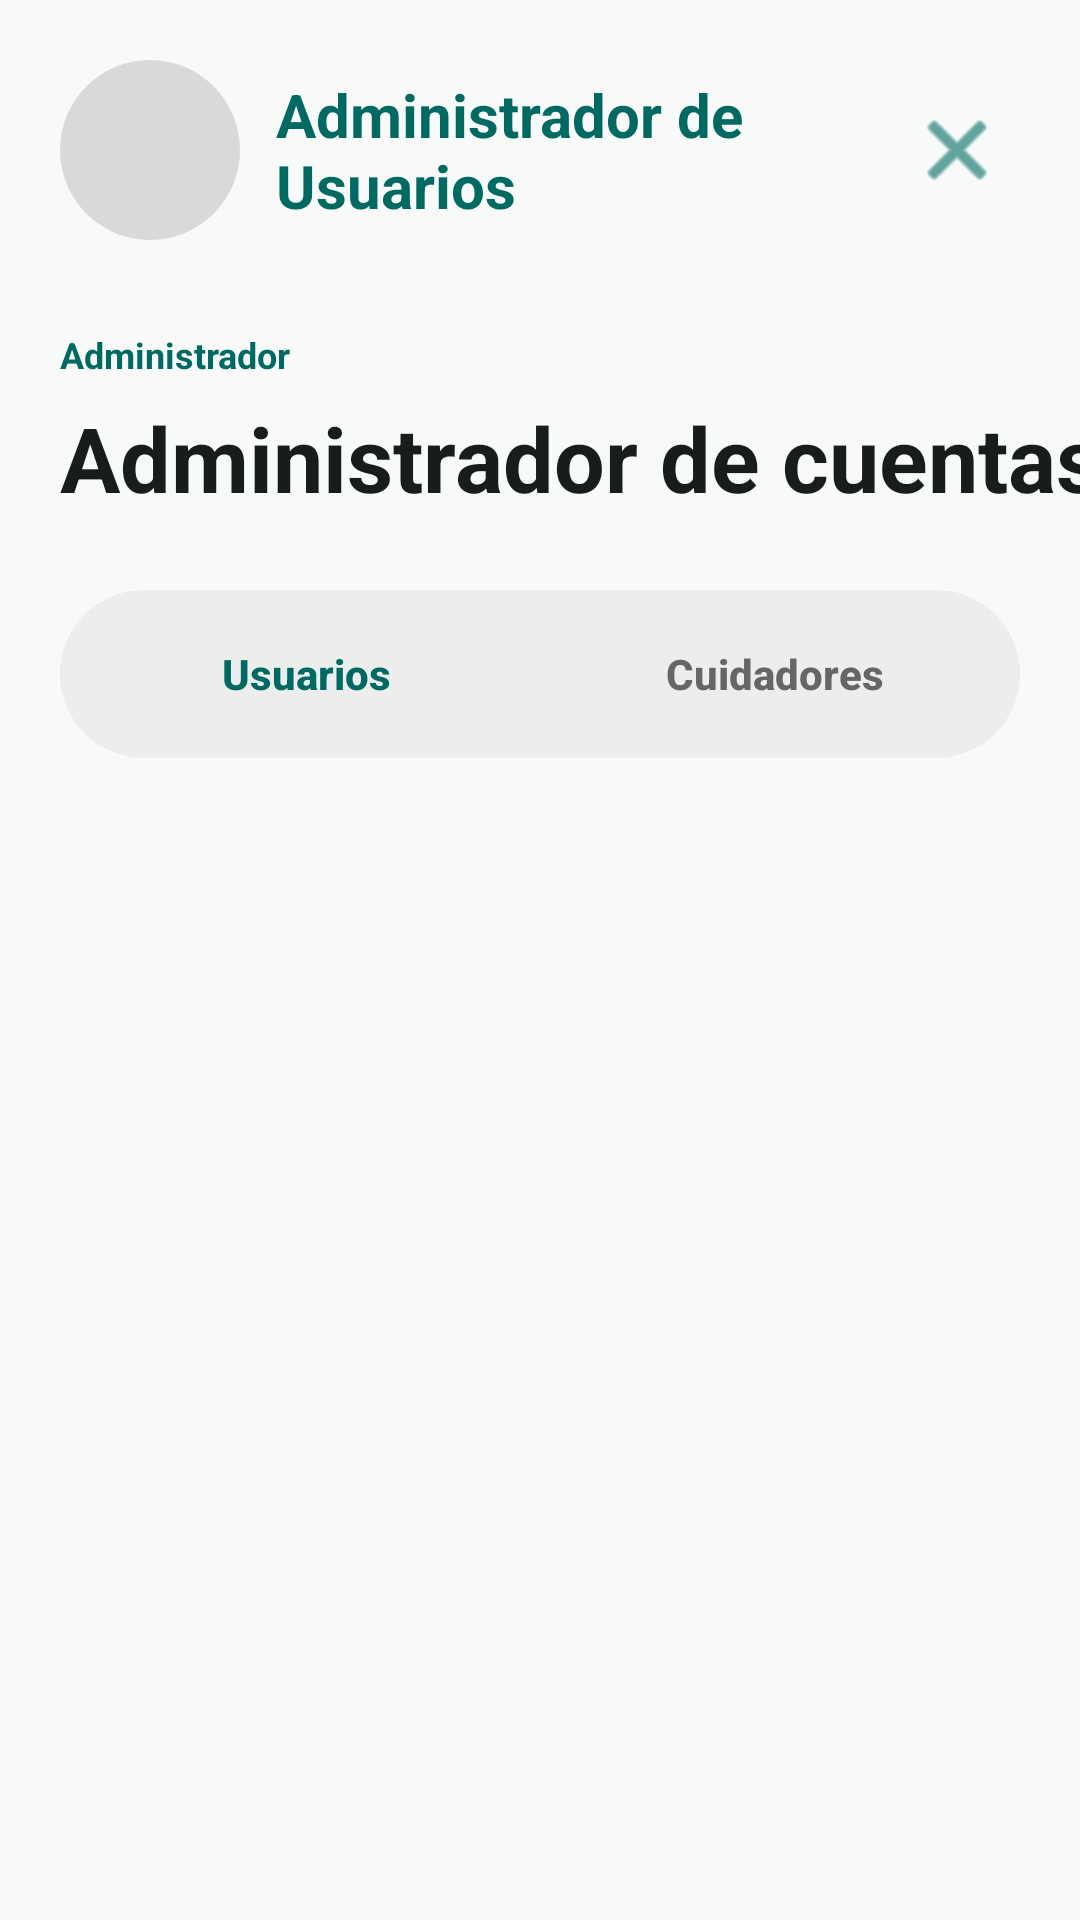

Point at icon controls on the screen. Image size 1080x1920, points as (x=x, y=y).
close clear cancel: (x=957, y=150)
